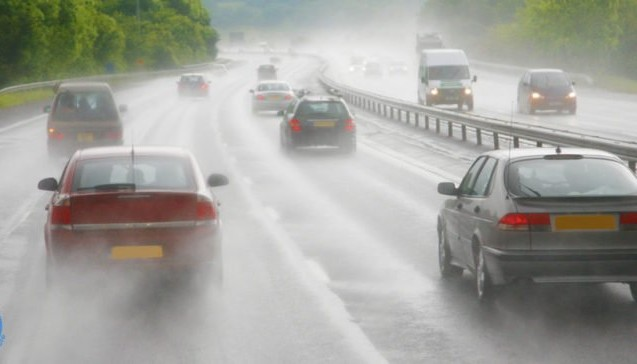car: (435, 143, 636, 301), (35, 146, 227, 303), (45, 81, 123, 160), (279, 95, 357, 154), (414, 49, 473, 110), (516, 68, 576, 115), (250, 80, 295, 115), (176, 73, 208, 97), (389, 60, 407, 75), (210, 62, 228, 77), (365, 61, 381, 75), (347, 62, 365, 73)
truck: (414, 33, 450, 71)
